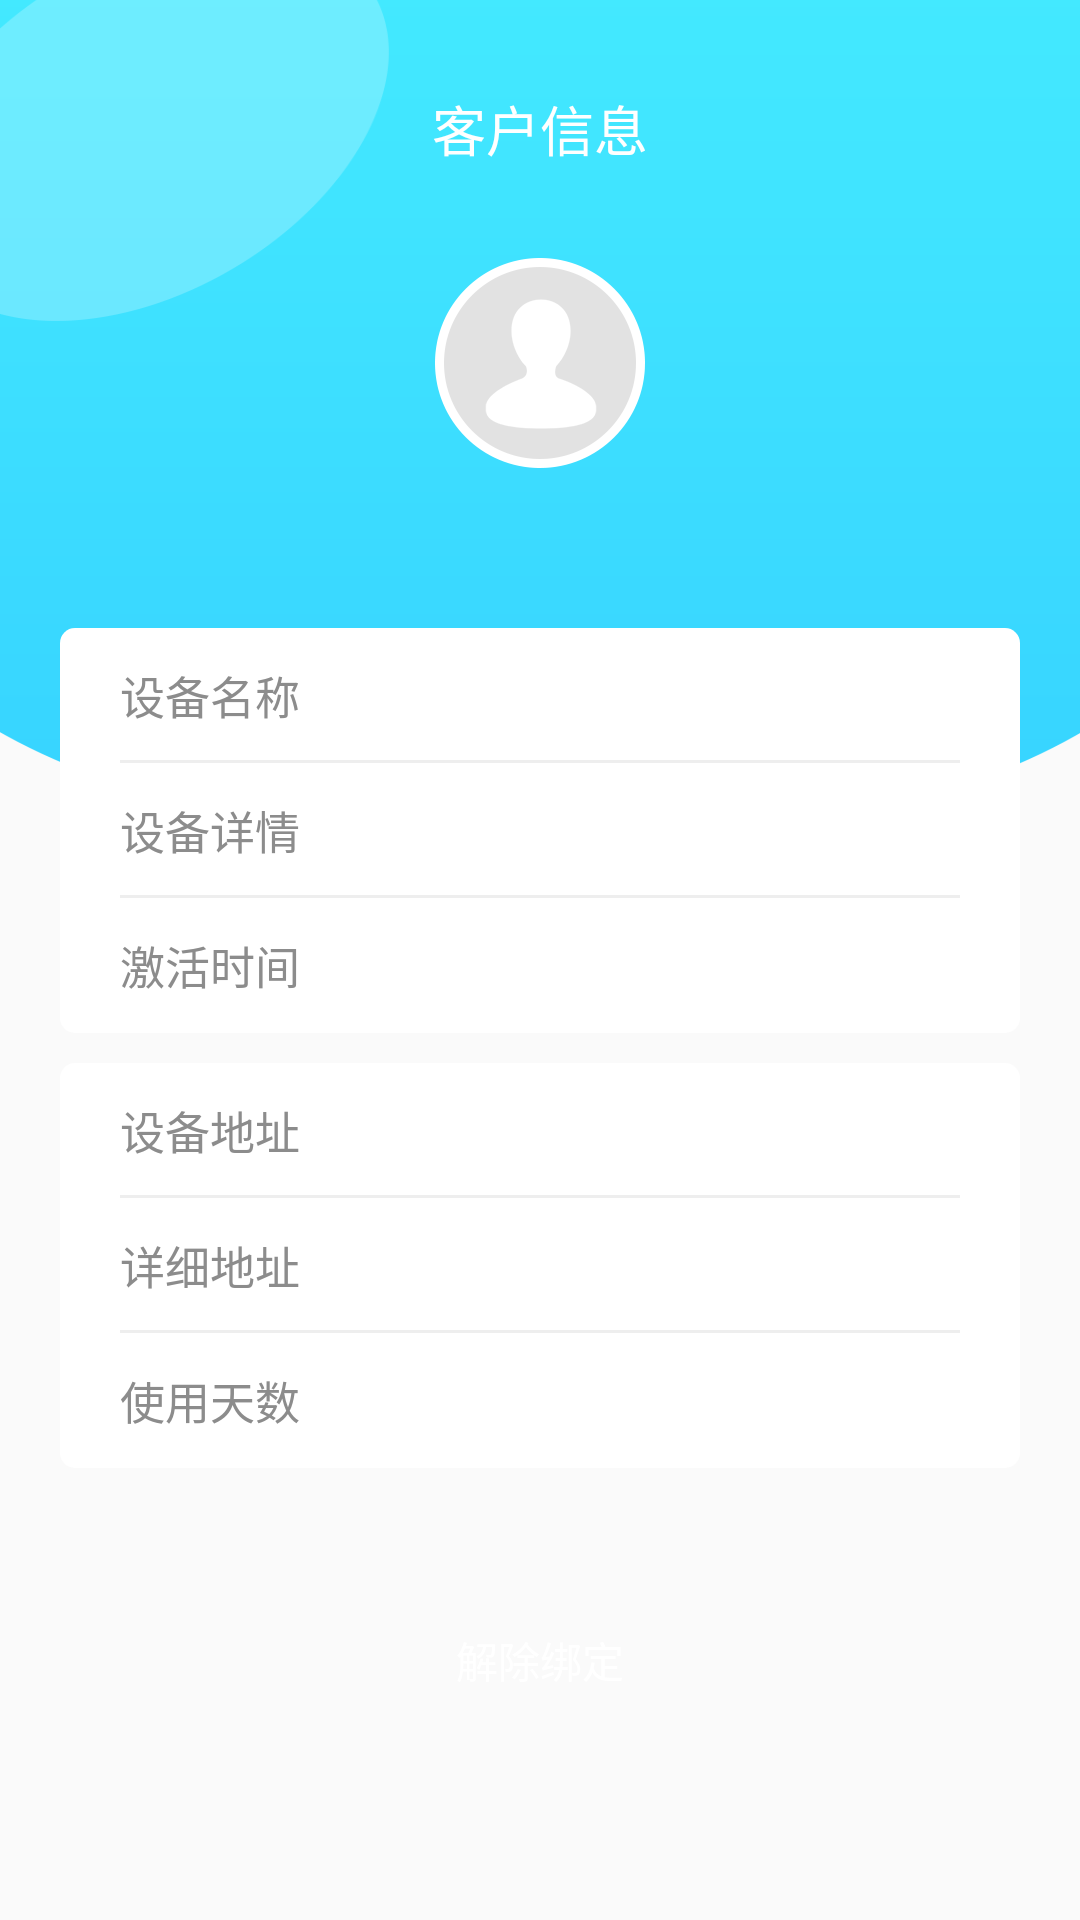

Screen size 1080 x 1920. Icon name, then its box in pixels as (x1, y1, x2, y2):
yh tx: (435, 258, 645, 468)
